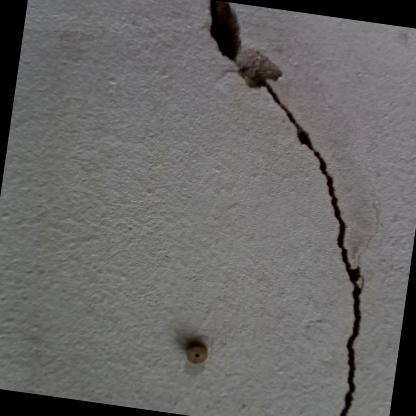crack: (206, 0, 365, 416)
